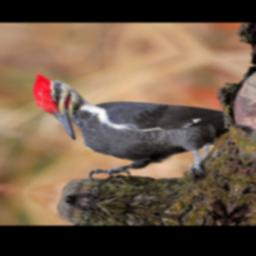Woodpecker: (4, 73, 235, 201)
